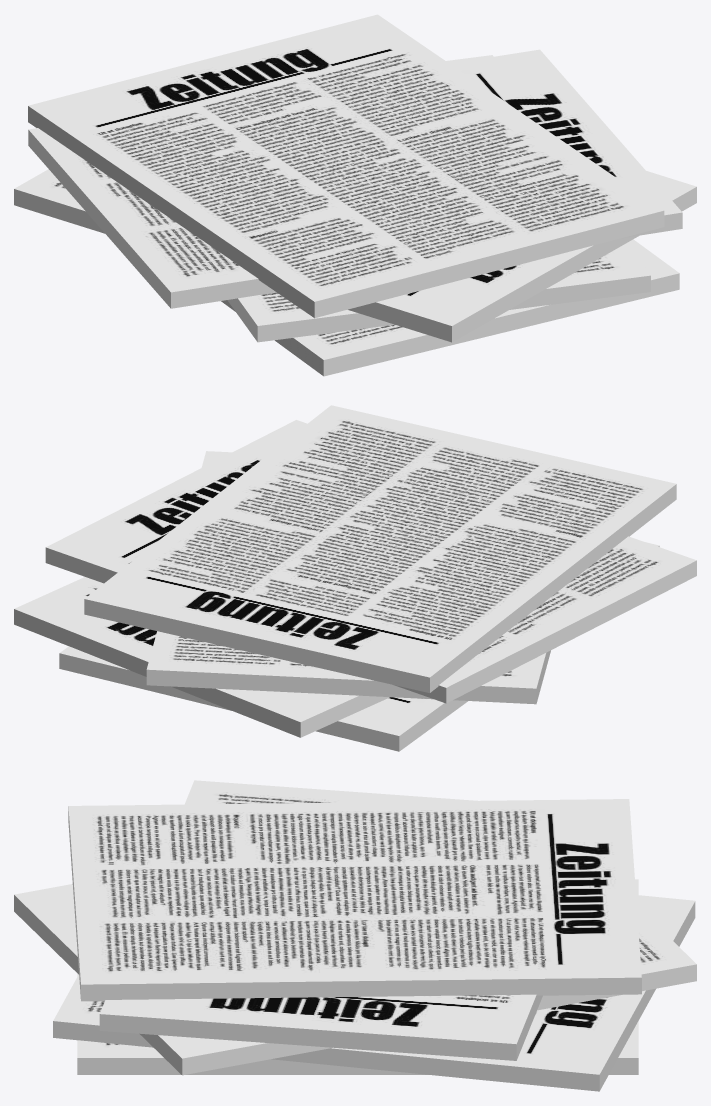
The model's file is Zeitungsstapel.fbx.
3 renders of one model, top to bottom at view 1: azimuth 30°, elevation 25°; view 2: azimuth 150°, elevation 25°; view 3: azimuth 270°, elevation 25°, orthographic. The views are drawn at different scales.
Parts seen in each view (by area): view 1: Cube.012, Cube.011, Cube.010, Cube.008, Cube.009; view 2: Cube.012, Cube.011, Cube.009, Cube.010, Cube.008; view 3: Cube.012, Cube.011, Cube.009, Cube.010, Cube.008.
Boxes of the visible parts, left/top/right/bottom form: Cube.012: left=28, top=14, right=664, bottom=318; Cube.011: left=28, top=49, right=682, bottom=308; Cube.010: left=14, top=169, right=696, bottom=342; Cube.008: left=221, top=239, right=679, bottom=376; Cube.009: left=227, top=55, right=650, bottom=342; Cube.012: left=84, top=405, right=676, bottom=692; Cube.011: left=45, top=420, right=696, bottom=703; Cube.009: left=14, top=577, right=389, bottom=737; Cube.010: left=146, top=451, right=550, bottom=704; Cube.008: left=59, top=542, right=659, bottom=751; Cube.012: left=68, top=799, right=641, bottom=1001; Cube.011: left=99, top=780, right=542, bottom=1060; Cube.009: left=53, top=895, right=695, bottom=1091; Cube.010: left=14, top=884, right=696, bottom=1075; Cube.008: left=77, top=879, right=638, bottom=1074.
Size of the model in its own units: 136 by 20.08 by 149.
